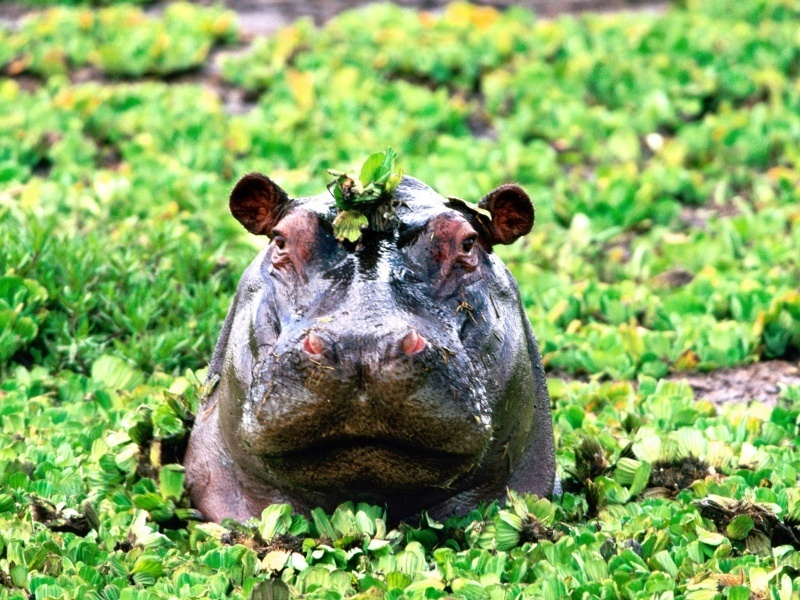hipopotamo: (171, 159, 574, 529)
